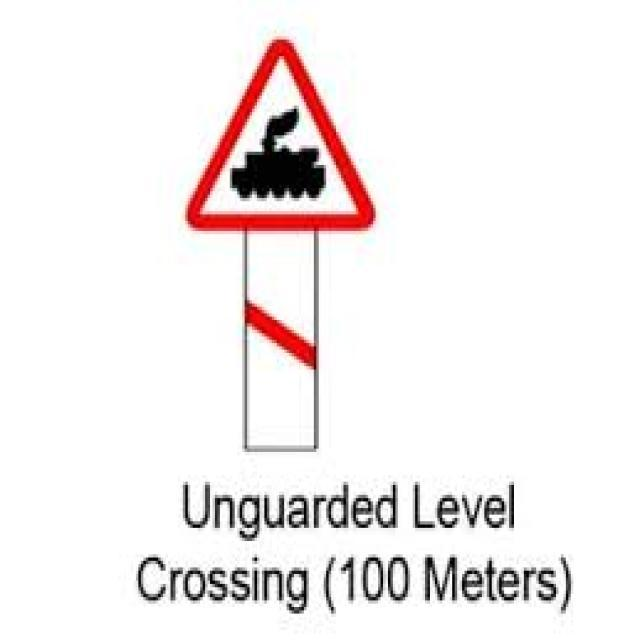unguarded level crossing: (178, 31, 379, 241)
